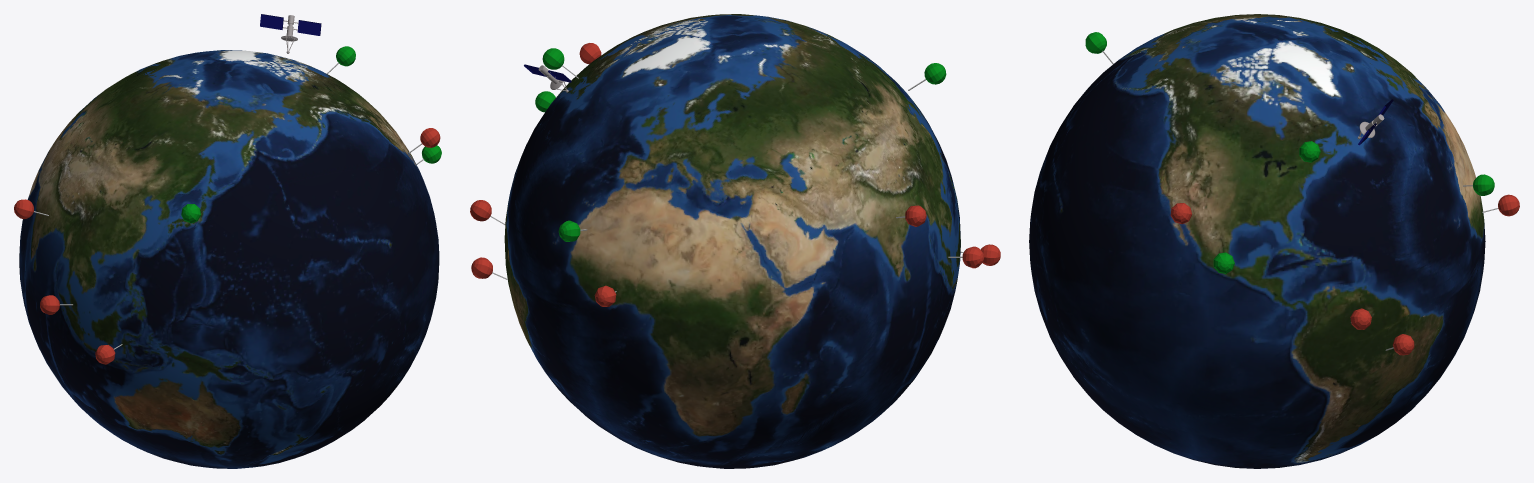
File: earthCompressed.glb
The picture shows the model from 3 angles, left to right: view 1: azimuth 30°, elevation 25°; view 2: azimuth 150°, elevation 25°; view 3: azimuth 270°, elevation 25°; orthographic projection. The views are drawn at different scales.
Visible parts, largest first — view 1: earth, iss; view 2: earth; view 3: earth.
Boxes of the visible parts, box(x1,y1,x2,y2) form: earth: box(19, 50, 439, 468); iss: box(260, 14, 321, 53); earth: box(504, 14, 960, 468); earth: box(1029, 14, 1485, 468).
Bounding box in the file's own units: 5.95 × 5.33 × 5.75.
Materials: 18 (1 with a texture image).
